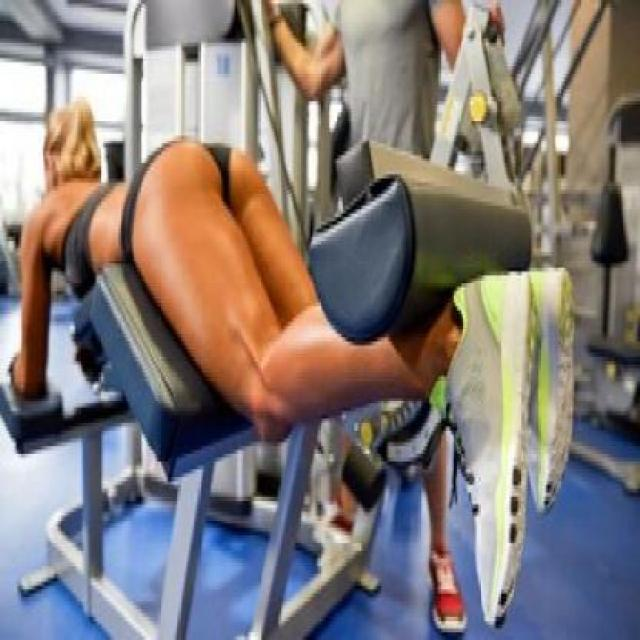reg curl machine: (3, 49, 577, 636)
